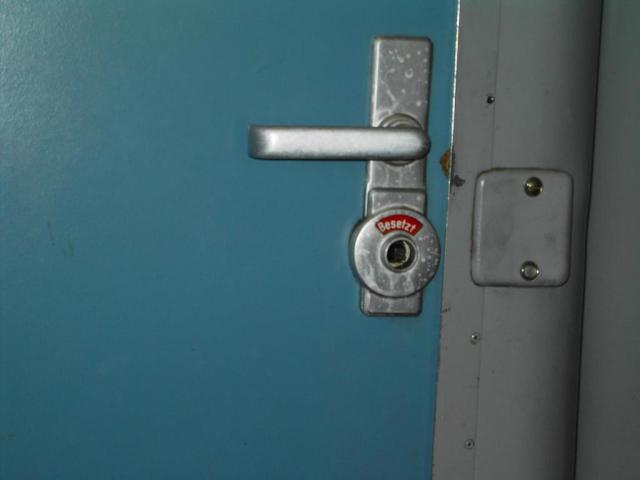Door-handle: (250, 34, 442, 317)
